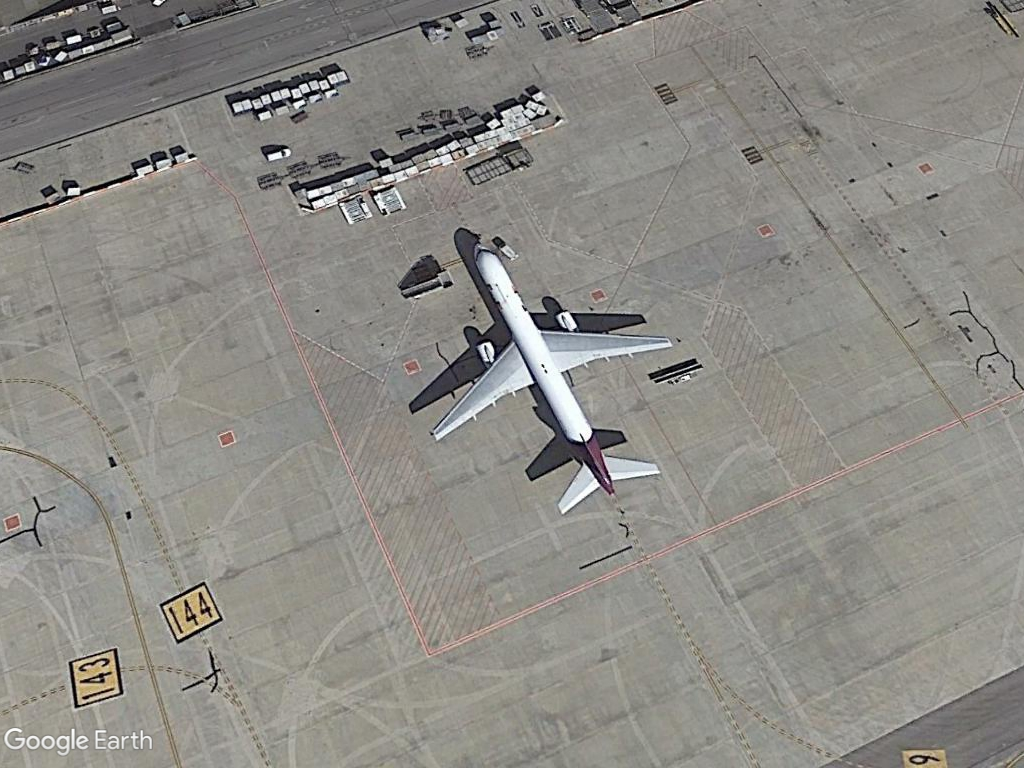airliner: (399, 239, 685, 530)
stairtruck: (394, 265, 459, 304)
